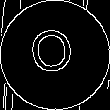O_S: (30, 26, 80, 84)
